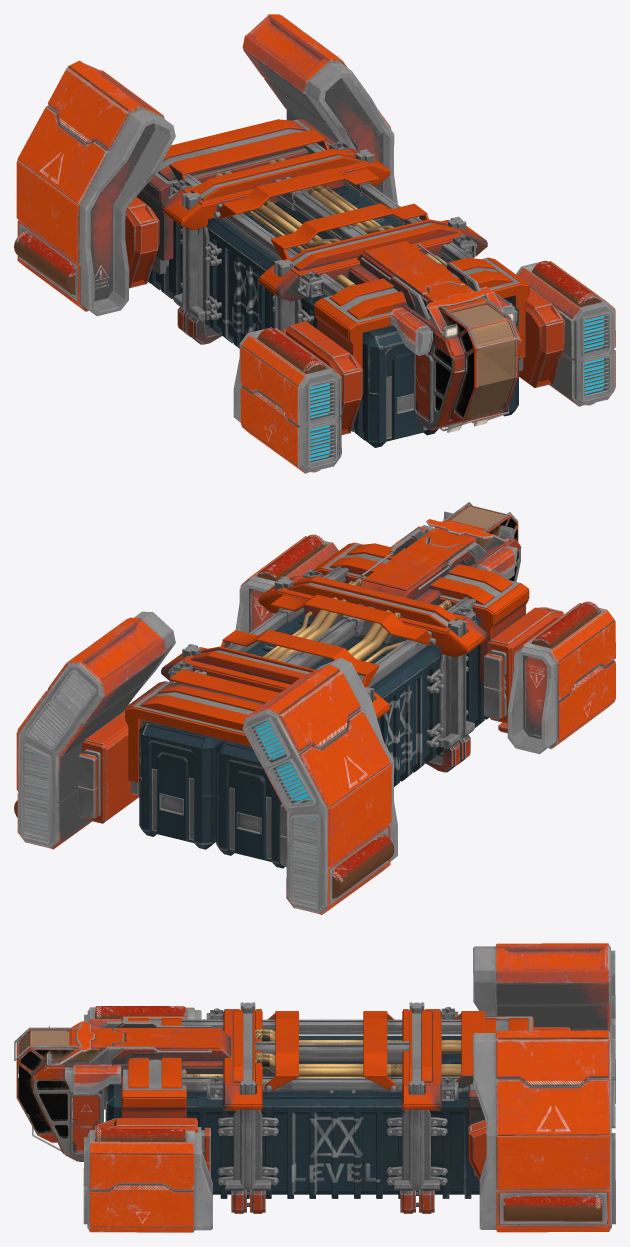
Rendered from cargo2.glb.
3 views of the same model, one above another, from view 1: azimuth 30°, elevation 25°; view 2: azimuth 150°, elevation 25°; view 3: azimuth 270°, elevation 25° (orthographic). The views are drawn at different scales.
Visible parts, largest first — view 1: Object_2; view 2: Object_2; view 3: Object_2.
Part boxes in pixels (box(x1,y1,x2,y2)): Object_2: box(14, 14, 615, 473); Object_2: box(14, 502, 615, 914); Object_2: box(14, 943, 615, 1232).
Bounding box in the file's own units: 38.77 × 23.16 × 67.12.
12 materials, 11 textured.
